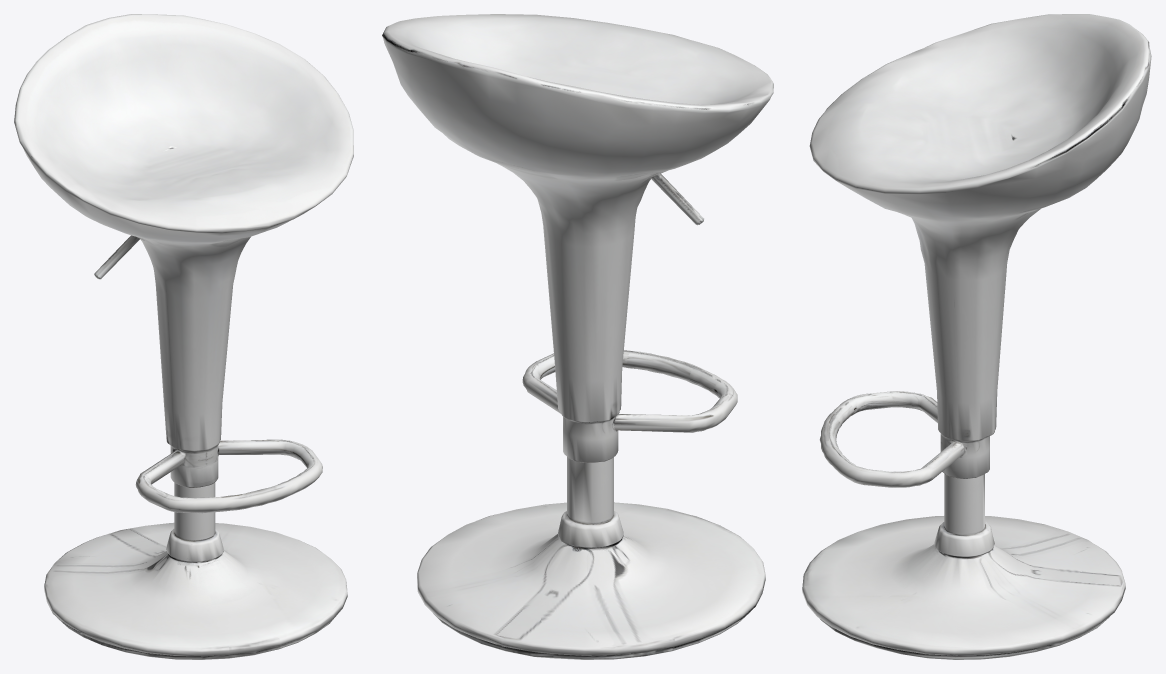
File: stool_scooper_white_0125200831_texture.glb
3 renders of one model, left to right at view 1: azimuth 30°, elevation 25°; view 2: azimuth 150°, elevation 25°; view 3: azimuth 270°, elevation 25°, orthographic. The views are drawn at different scales.
Visible parts, largest first — view 1: Mesh_0.001; view 2: Mesh_0.001; view 3: Mesh_0.001.
Part boxes in pixels (<box>): Mesh_0.001: <box>14,14,353,659</box>; Mesh_0.001: <box>382,14,773,659</box>; Mesh_0.001: <box>802,14,1151,659</box>.
Size of the model in its own units: 20.13 by 33 by 19.18.
Materials: 1 (1 with a texture image).
